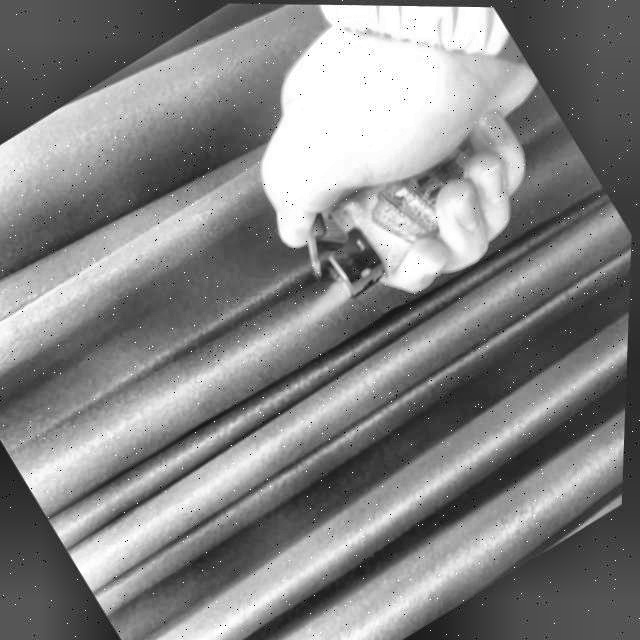Fire: (284, 272, 359, 335)
